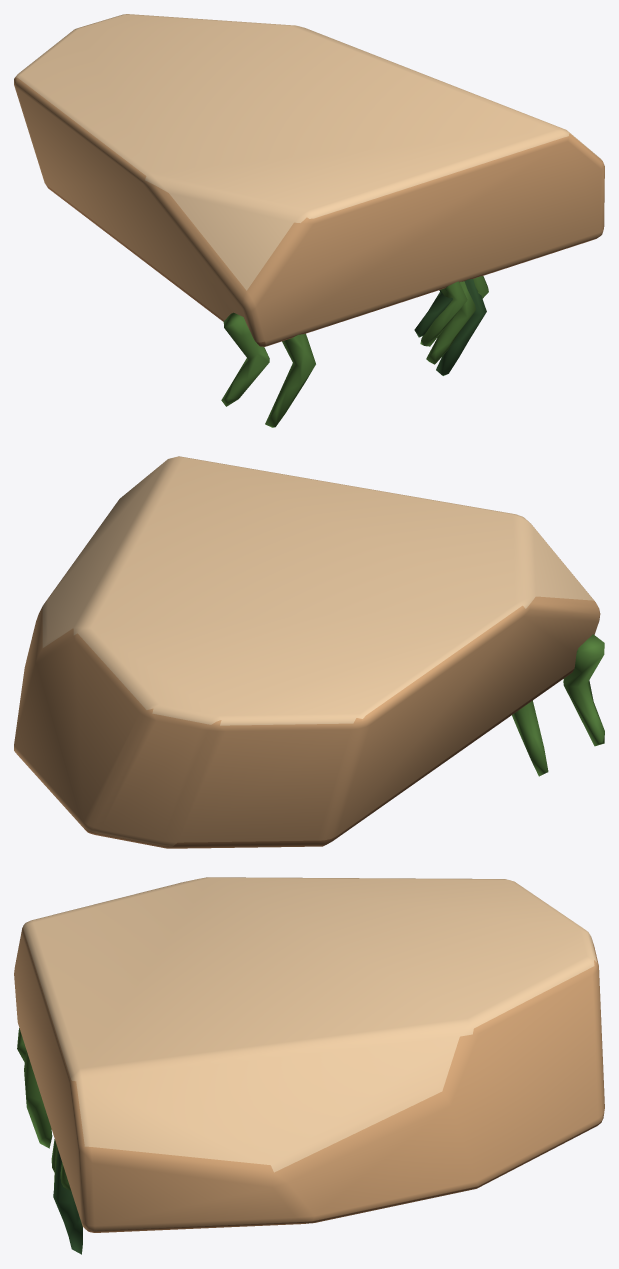
Rendered from shore_rock_ledge_lod1.glb.
3 renders of one model, top to bottom at view 1: azimuth 30°, elevation 25°; view 2: azimuth 150°, elevation 25°; view 3: azimuth 270°, elevation 25°, orthographic. The views are drawn at different scales.
Parts seen in each view (by area): view 1: shore_rock_ledge.001; view 2: shore_rock_ledge.001; view 3: shore_rock_ledge.001.
Boxes of the visible parts, x1,y1,x2,y2 form: shore_rock_ledge.001: (14, 14, 604, 427); shore_rock_ledge.001: (14, 456, 604, 848); shore_rock_ledge.001: (14, 877, 604, 1254).
Size of the model in its own units: 4.15 by 2.13 by 4.62.
